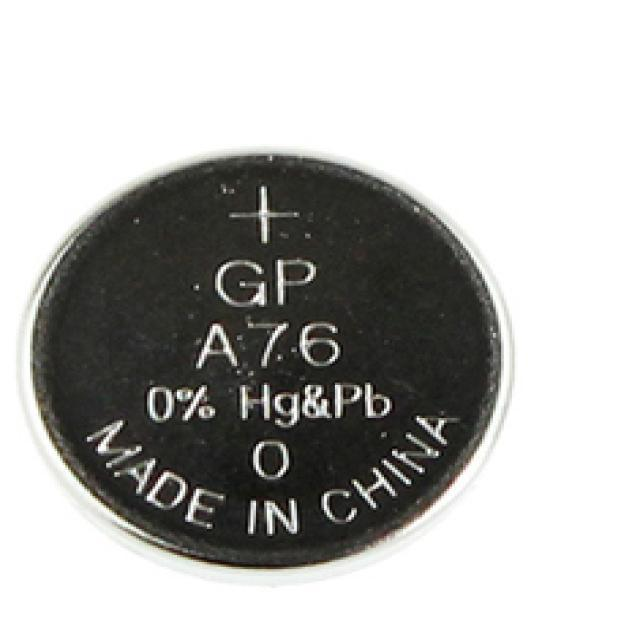COIN: (13, 149, 514, 581)
